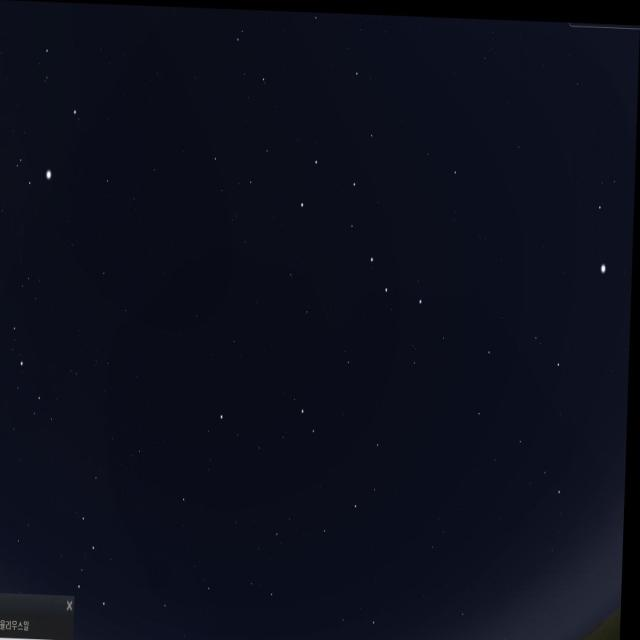cassiopeia: (70, 464, 125, 628)
ursa_major: (297, 146, 433, 314)
